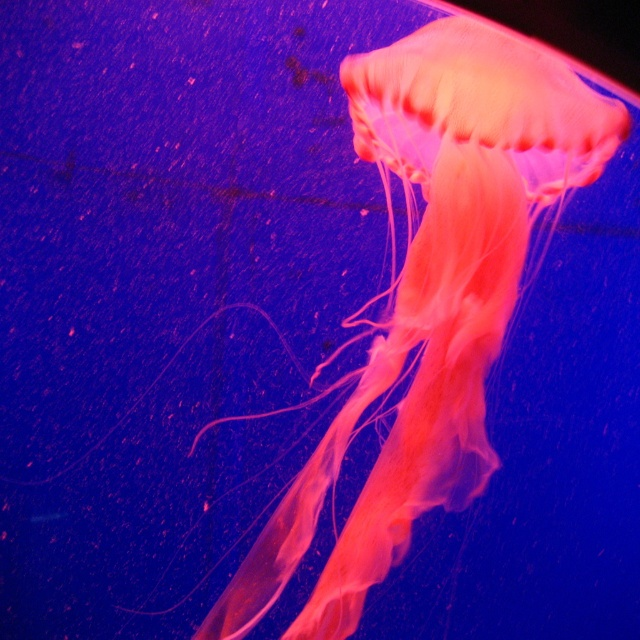Jellyfish: (36, 9, 635, 639)
